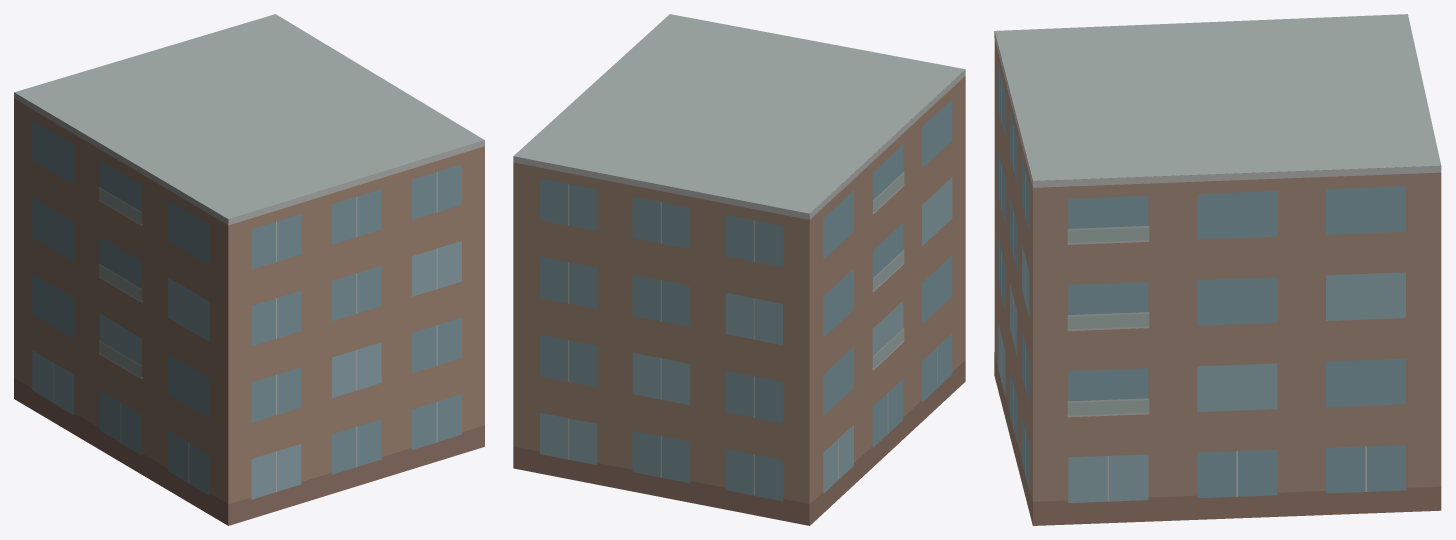
File: survey-upis-32960625.glb
3 views of the same model, side by side, from view 1: azimuth 30°, elevation 25°; view 2: azimuth 150°, elevation 25°; view 3: azimuth 270°, elevation 25° (orthographic). The views are drawn at different scales.
Visible parts, largest first — view 1: survey-upis-32960625.tmp; view 2: survey-upis-32960625.tmp; view 3: survey-upis-32960625.tmp.
Boxes of the visible parts, x1,y1,x2,y2 form: survey-upis-32960625.tmp: (14, 14, 484, 525); survey-upis-32960625.tmp: (513, 14, 965, 525); survey-upis-32960625.tmp: (994, 14, 1441, 525).
Size of the model in its own units: 12.67 by 12.2 by 14.33.
